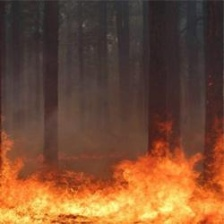fire: (1, 129, 223, 224)
